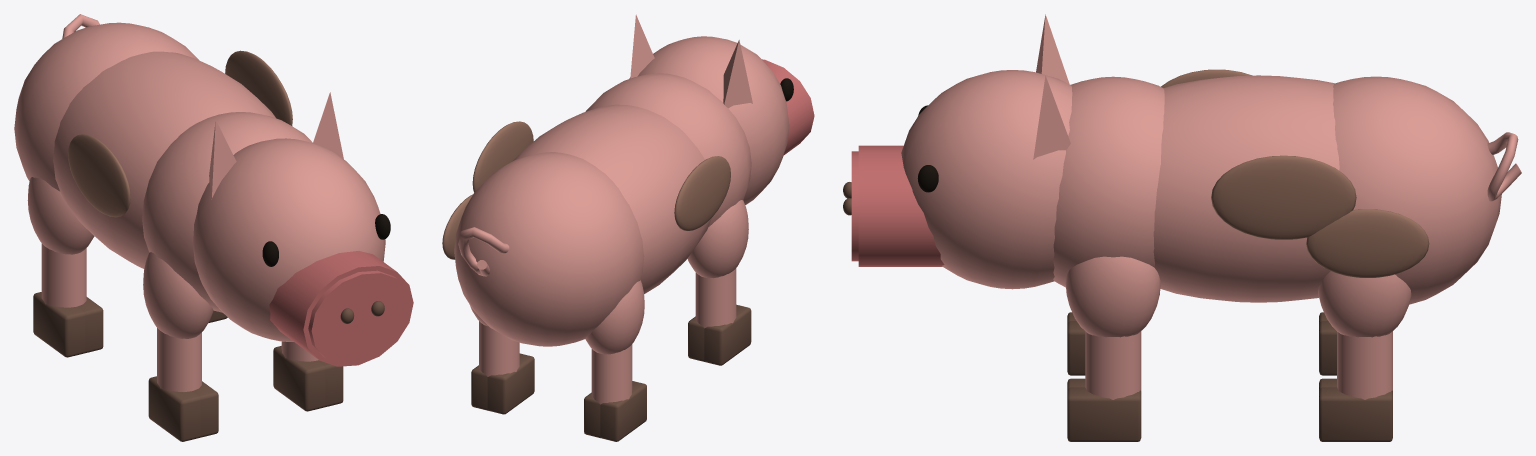
Rendered from PIG_DOMESTIC_YOUNG_LODs.fbx.
3 renders of one model, left to right at view 1: azimuth 30°, elevation 25°; view 2: azimuth 150°, elevation 25°; view 3: azimuth 270°, elevation 25°, orthographic. The views are drawn at different scales.
Visible parts, largest first — view 1: PIG_DOMESTIC_YOUNG_LOD0; view 2: PIG_DOMESTIC_YOUNG_LOD0; view 3: PIG_DOMESTIC_YOUNG_LOD0.
Boxes of the visible parts, box(x1,y1,x2,y2) form: PIG_DOMESTIC_YOUNG_LOD0: box(14, 14, 413, 441); PIG_DOMESTIC_YOUNG_LOD0: box(442, 14, 814, 441); PIG_DOMESTIC_YOUNG_LOD0: box(843, 14, 1521, 441).
Size of what is drawn, in the model's own units: 0.34 by 0.52 by 0.9.
